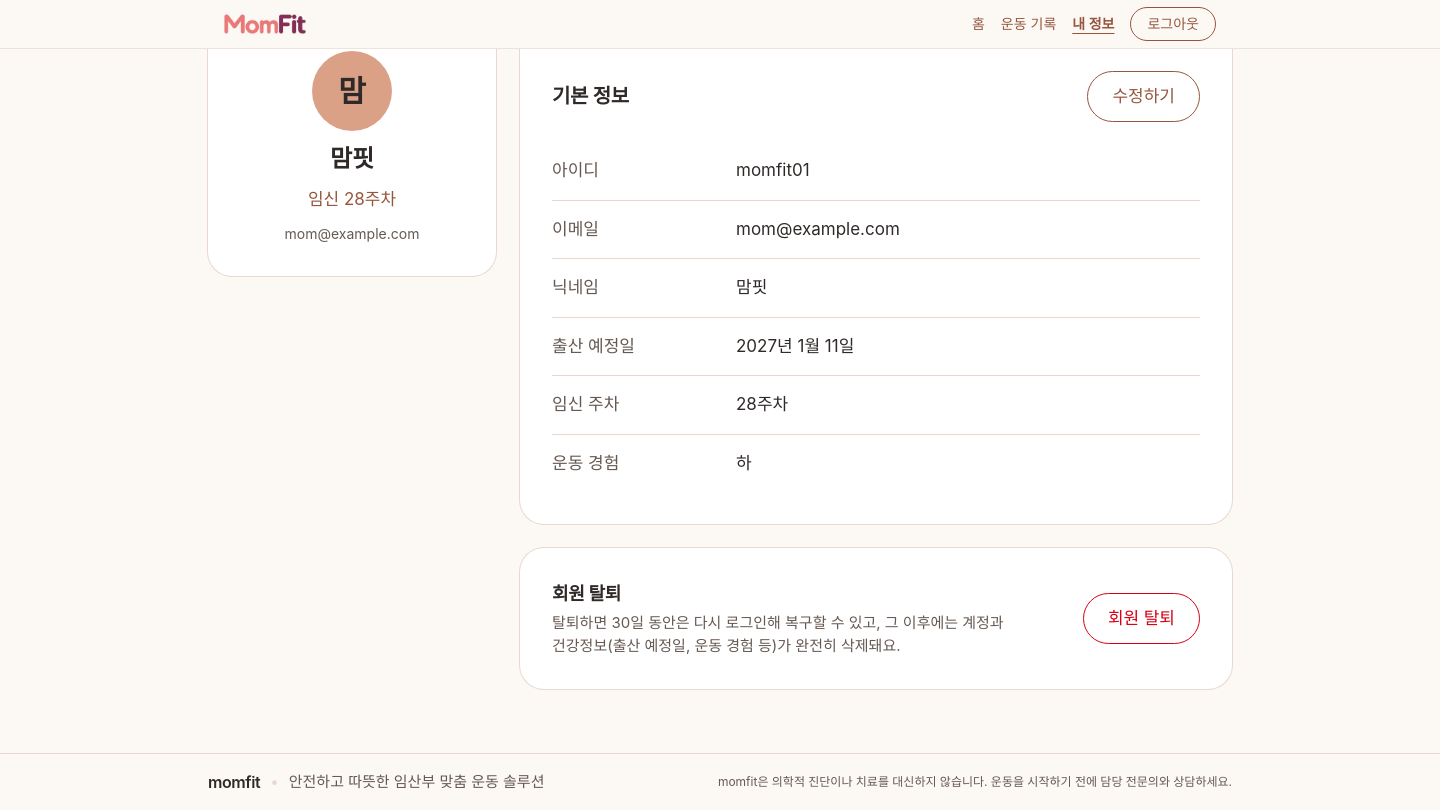
Test: 회원 탈퇴 › 모달에서 취소하면 요청 없이 닫힌다
This screenshot has width=1440, height=810.
(page scrolled)
Click the button "회원 탈퇴" at (1141, 619), box [1083, 593, 1200, 644]
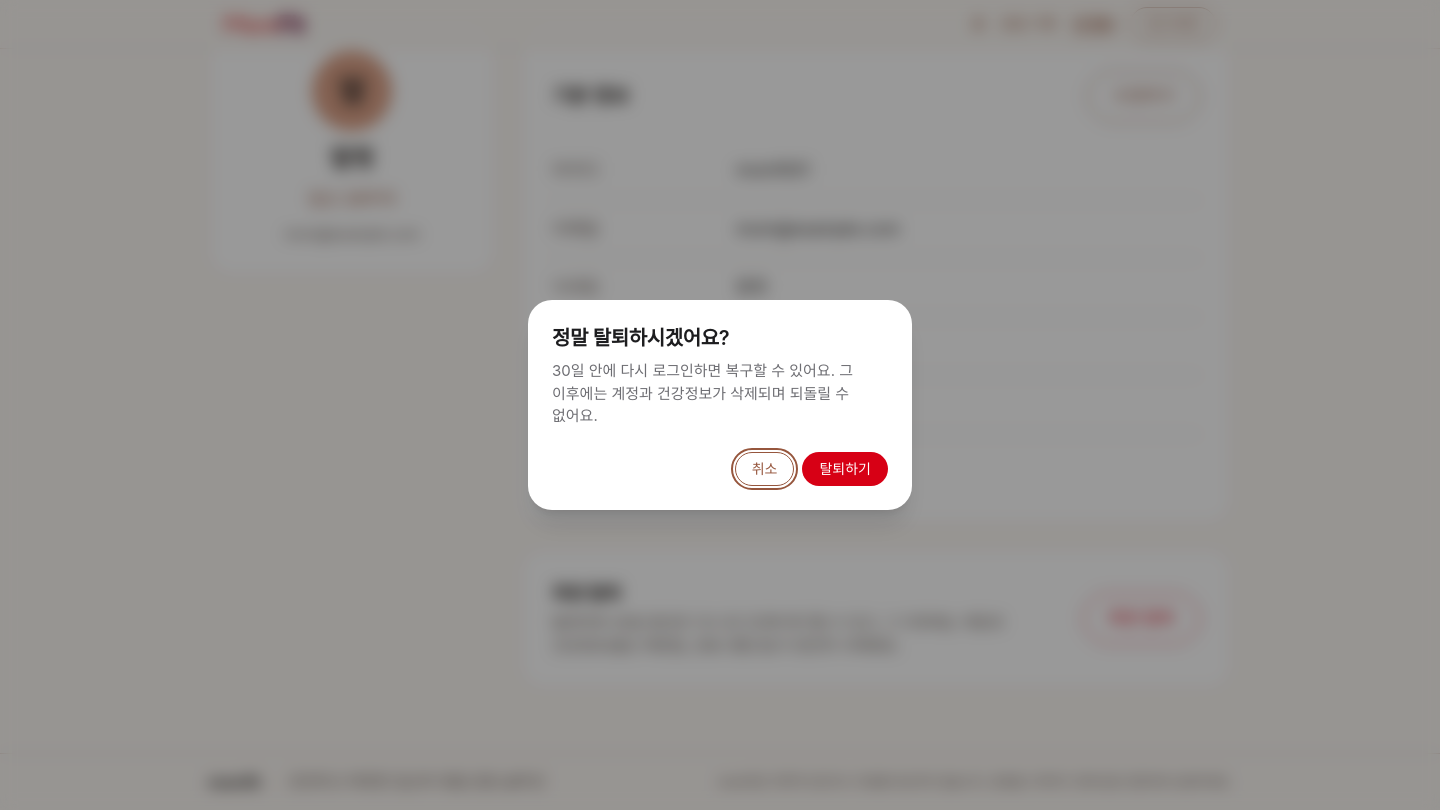
Click the button "취소" at (765, 469), box [735, 452, 794, 486]
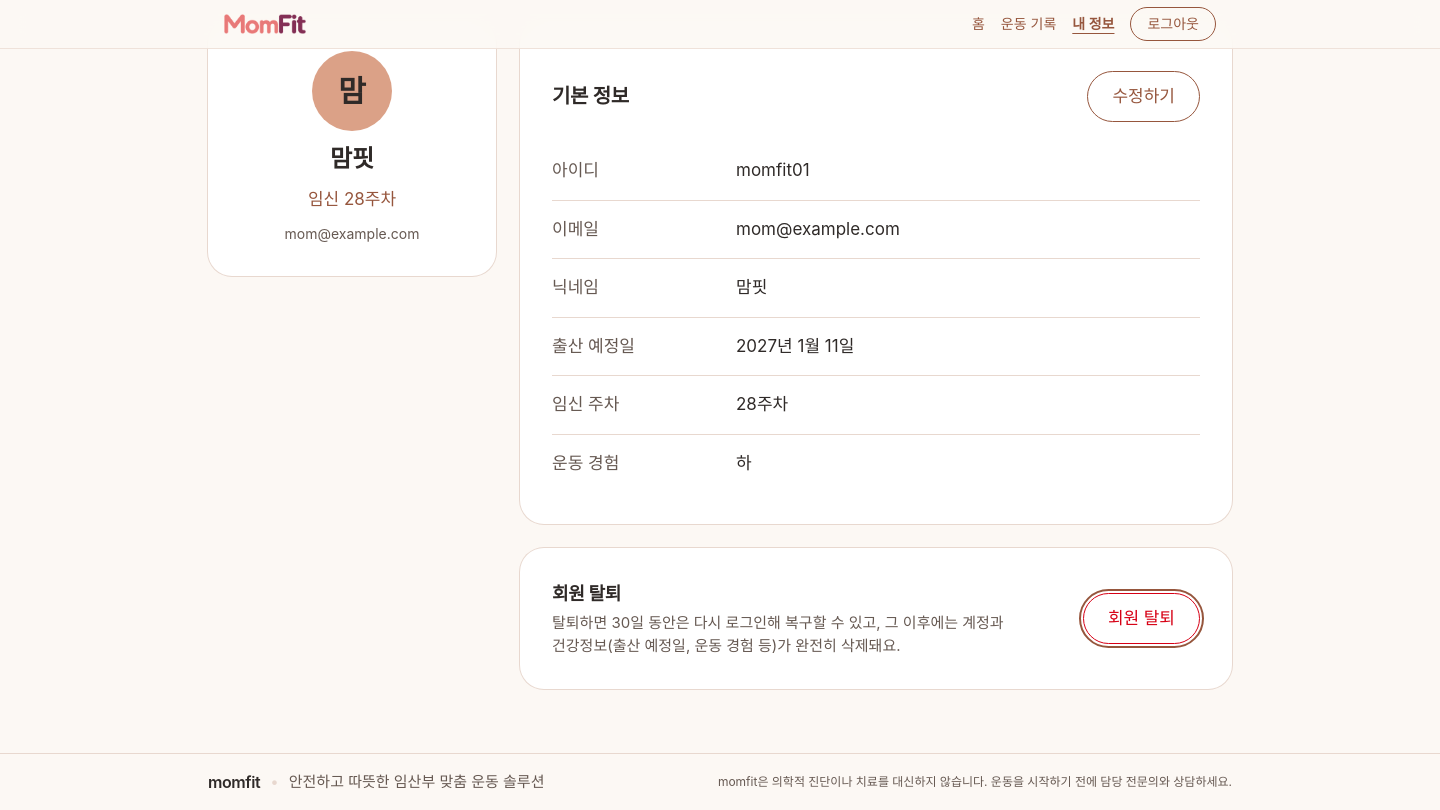
Expected: the dialog is gone
